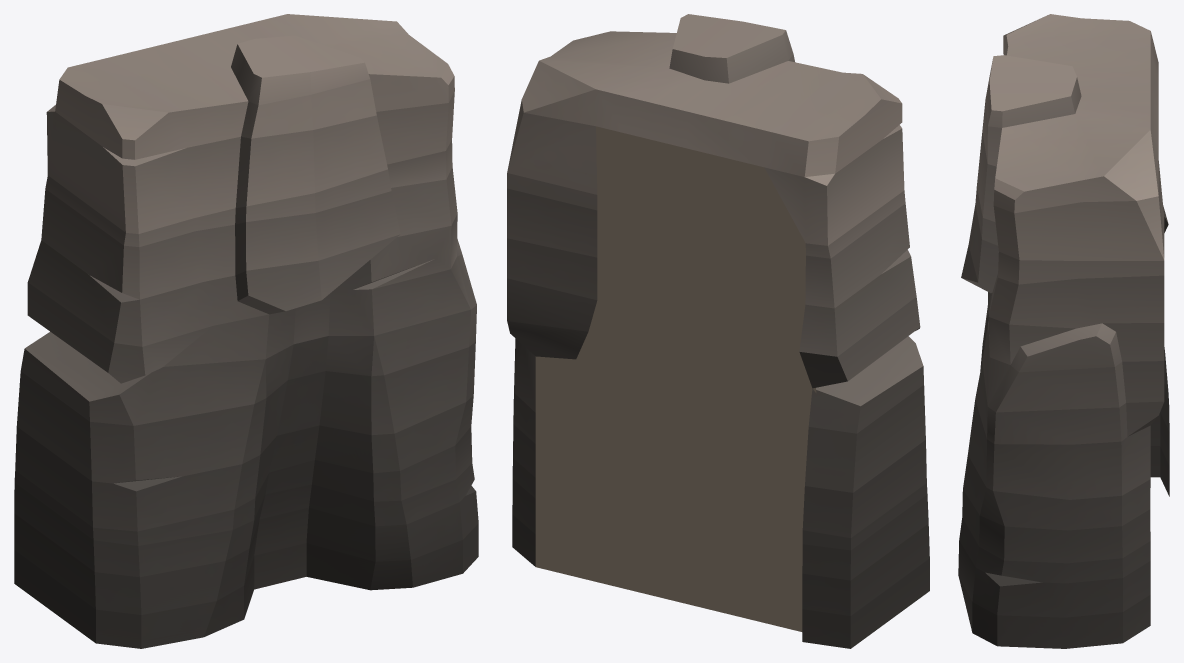
Rendered from Canyon_Wall_3C.fbx.
3 renders of one model, left to right at view 1: azimuth 30°, elevation 25°; view 2: azimuth 150°, elevation 25°; view 3: azimuth 270°, elevation 25°, orthographic. The views are drawn at different scales.
Visible parts, largest first — view 1: Canyon_Wall_3C; view 2: Canyon_Wall_3C; view 3: Canyon_Wall_3C.
Boxes of the visible parts, x1,y1,x2,y2 form: Canyon_Wall_3C: (14, 14, 478, 648); Canyon_Wall_3C: (507, 14, 929, 648); Canyon_Wall_3C: (958, 14, 1169, 648).
Bounding box in the file's own units: 2359 × 3152 × 1227.
